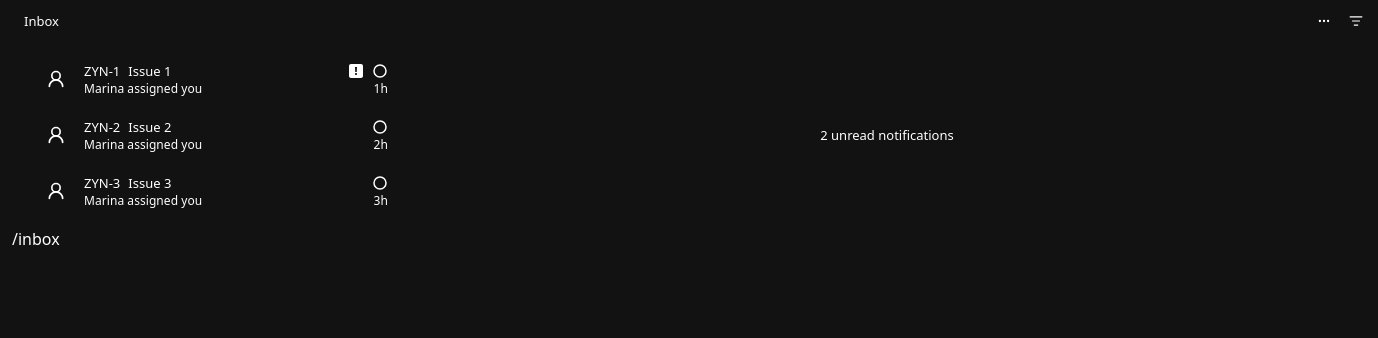
Test case: InboxPage › abrir grava a seleção na URL, mostra a issue e marca como lida
Click the option "ZYN-1 Issue 1 Marina assigned you 1h".
click(204, 79)  # box [20,51,388,107]
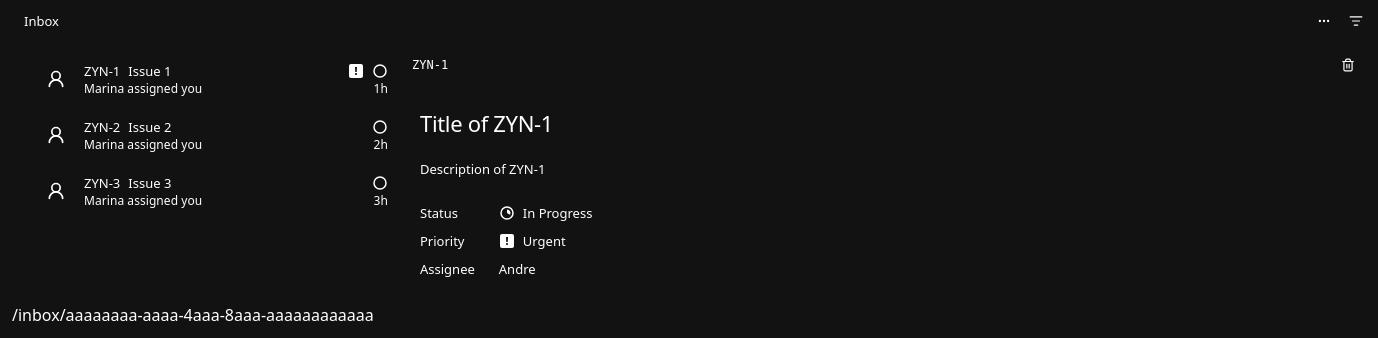
Expected: the heading "Title of ZYN-1" is shown, [420,108,553,138]
